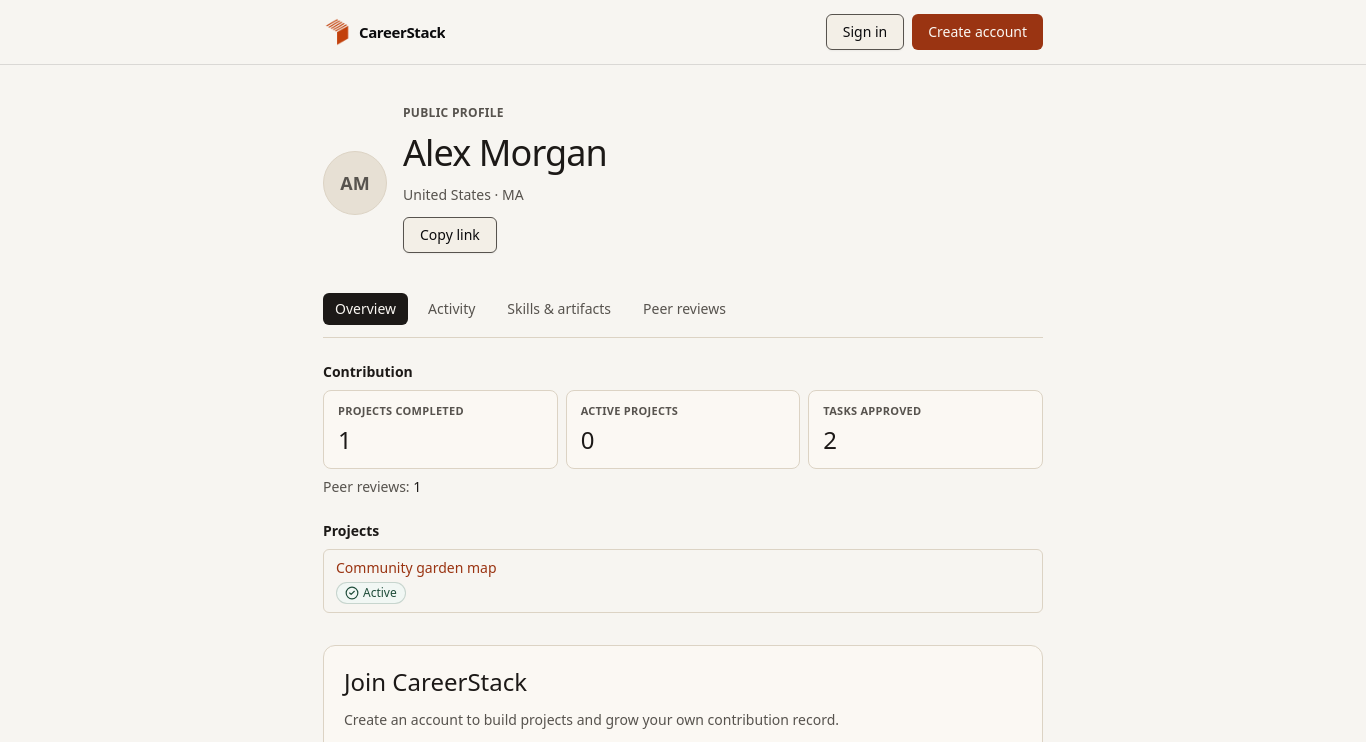
public surfaces › shows the public peer reviews tab without a report control
Expected: the heading "Alex Morgan" is shown, [403,133,607,173]
Expected: the heading "Projects" is shown, [323,520,379,540]
Click the button "Peer reviews" at (684, 309), box [631,293,738,325]
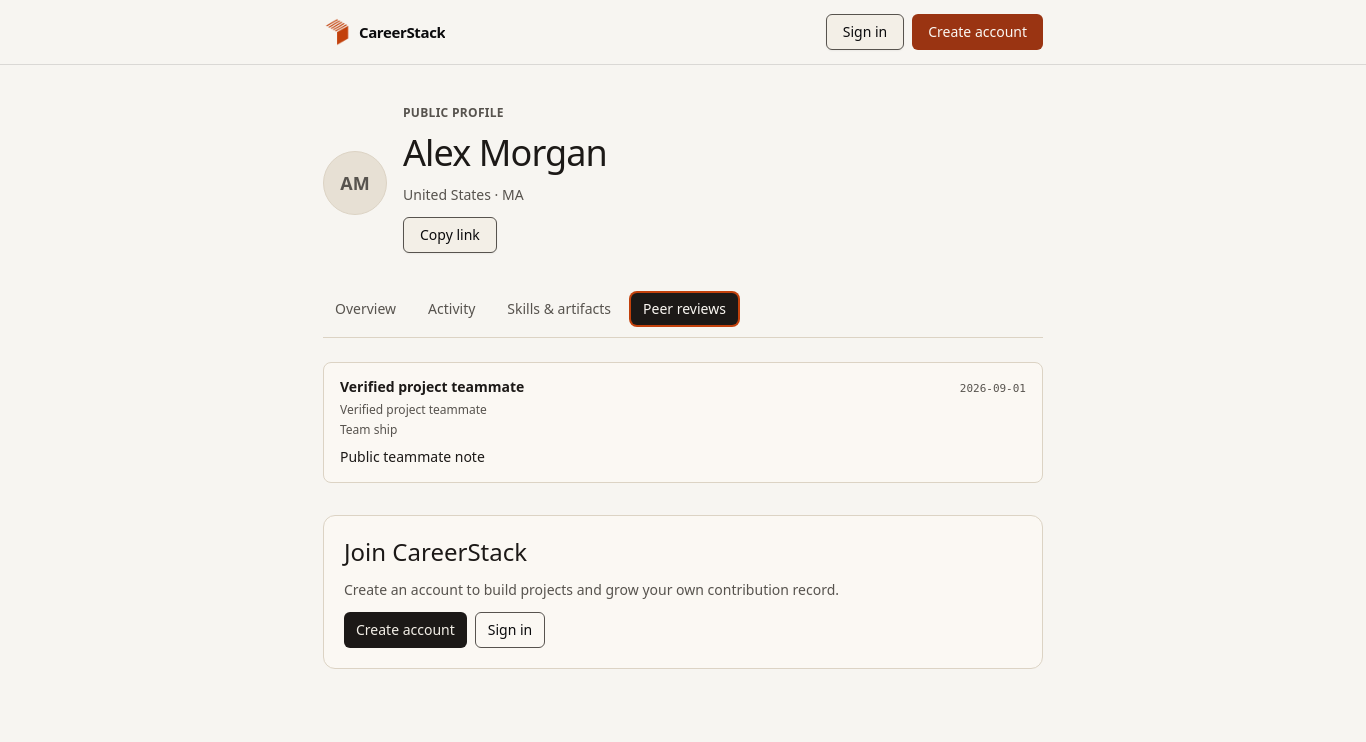
Now the text "Public teammate note" is shown, box [340,446,485,466]
Now the text "Verified project teammate" in the row of "2026-09-01" is shown, box [340,377,524,396]
